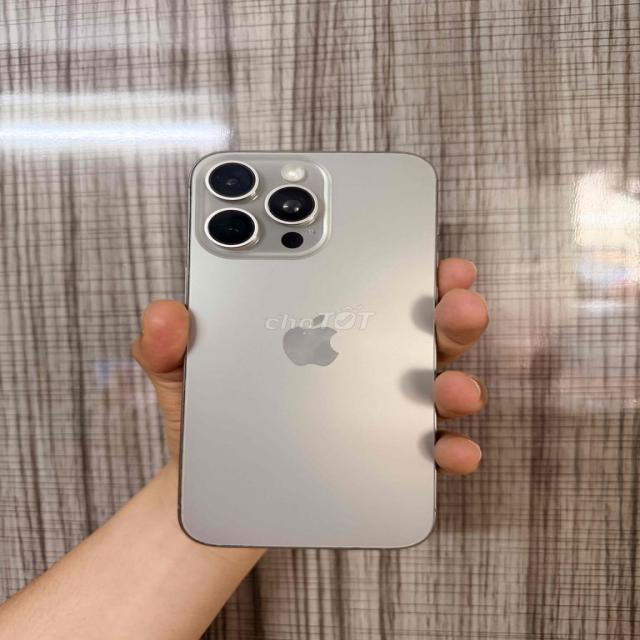gen_15: (153, 130, 470, 581)
